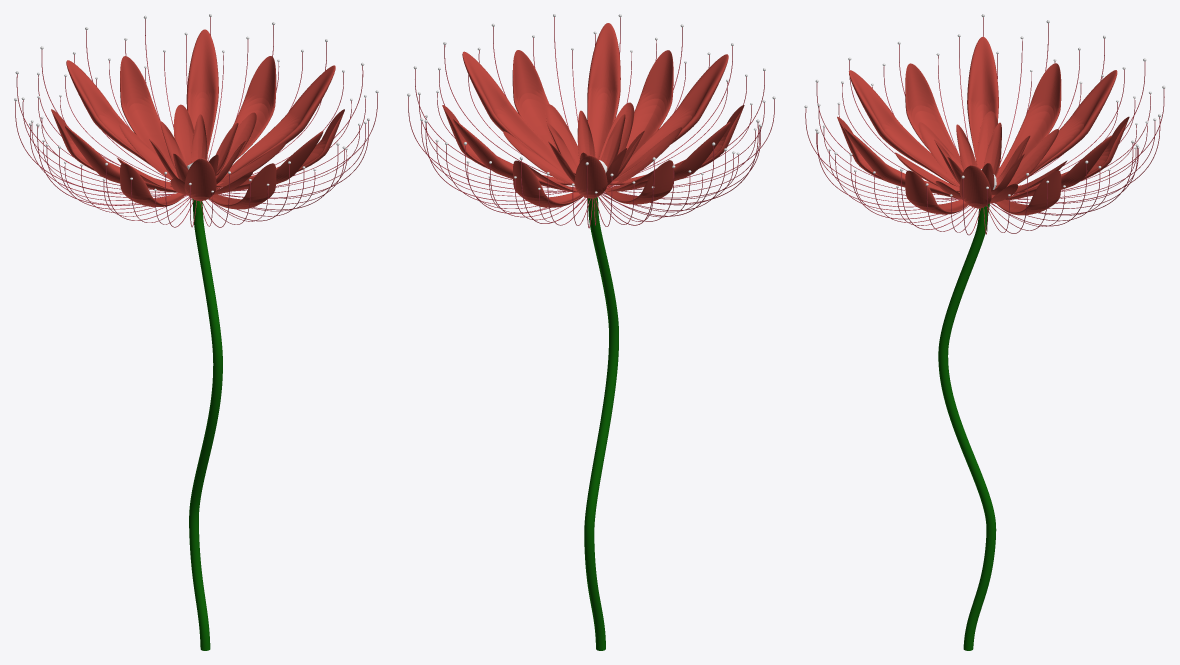
The model's file is lily.fbx.
3 views of the same model, side by side, from view 1: azimuth 30°, elevation 25°; view 2: azimuth 150°, elevation 25°; view 3: azimuth 270°, elevation 25° (orthographic). The views are drawn at different scales.
Parts seen in each view (by area): view 1: Cube.002, Cube, Sphere.001, BézierCurve, Cube.004, Cube.001; view 2: Cube.002, Cube, Sphere.001, BézierCurve, Cube.004, Cube.001; view 3: Cube.002, Cube, Sphere.001, BézierCurve, Cube.004, Cube.001.
Boxes of the visible parts, box(x1,y1,x2,y2) form: Cube.002: box(65, 29, 335, 201); Cube: box(51, 56, 344, 209); Sphere.001: box(15, 17, 377, 227); BézierCurve: box(189, 199, 222, 650); Cube.004: box(117, 104, 286, 194); Cube.001: box(149, 114, 245, 183); Cube.002: box(453, 23, 730, 198); Cube: box(442, 50, 744, 207); Sphere.001: box(408, 17, 774, 228); BézierCurve: box(584, 197, 618, 650); Cube.004: box(503, 102, 681, 192); Cube.001: box(546, 110, 644, 185); Cube.002: box(844, 37, 1117, 208); Cube: box(837, 63, 1129, 215); Sphere.001: box(805, 17, 1164, 235); BézierCurve: box(938, 203, 996, 650); Cube.004: box(895, 111, 1067, 202); Cube.001: box(934, 122, 1030, 195).
Size of the model in its own units: 2281 by 3840 by 2255.
